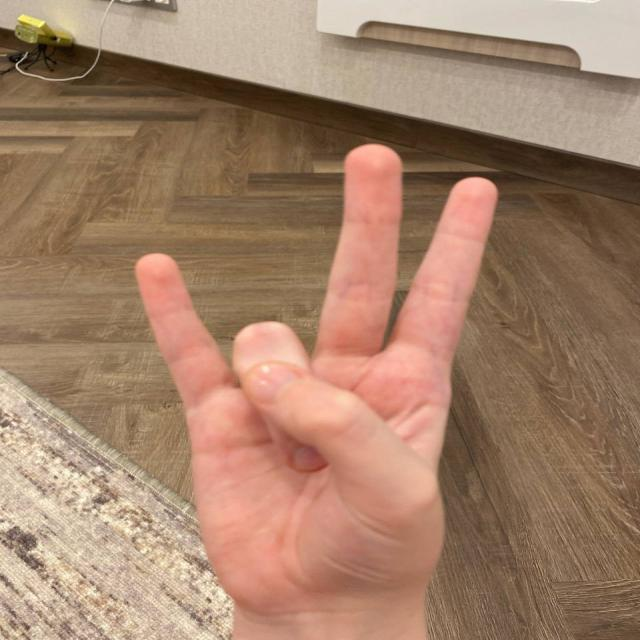n: (100, 123, 511, 602)
